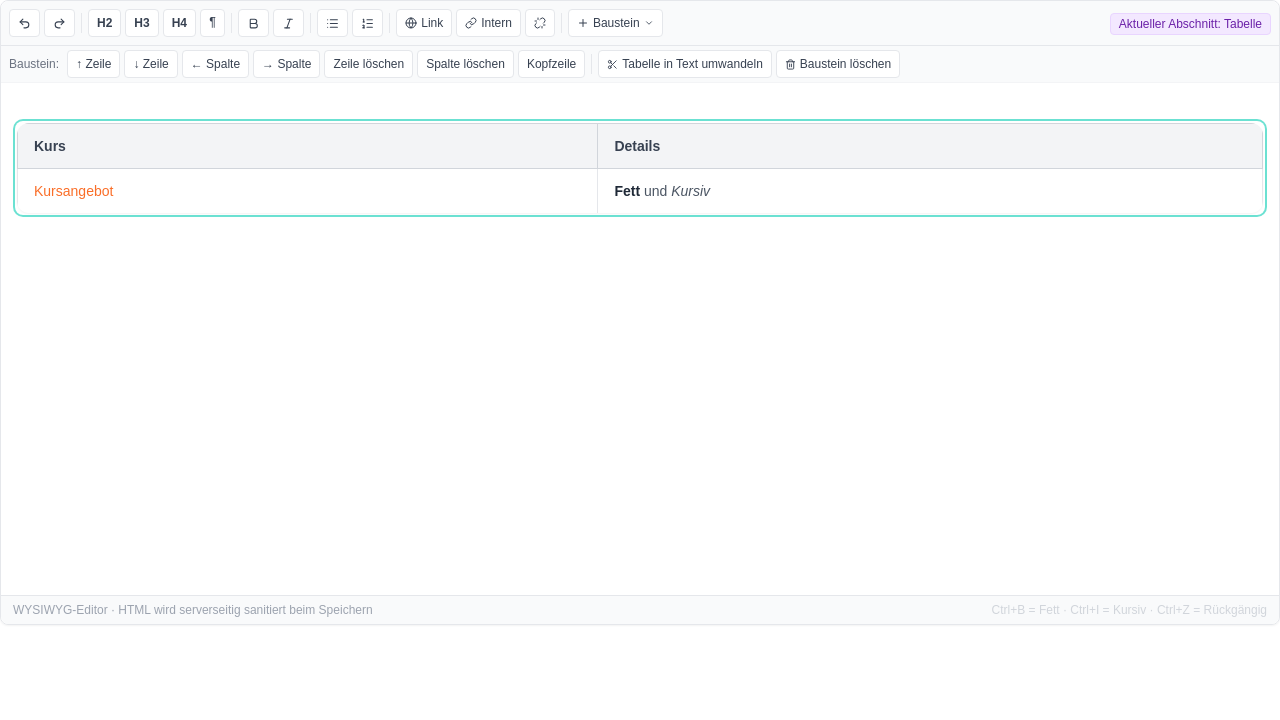
Test case: 3 – Tabelle → Text → Serialisierung → erneutes Parsen › erhält Texte, Links und Formatierungen
Press the mouse on the button with test id "btn-table-to-text" at (685, 64), box [598,50,772,78]
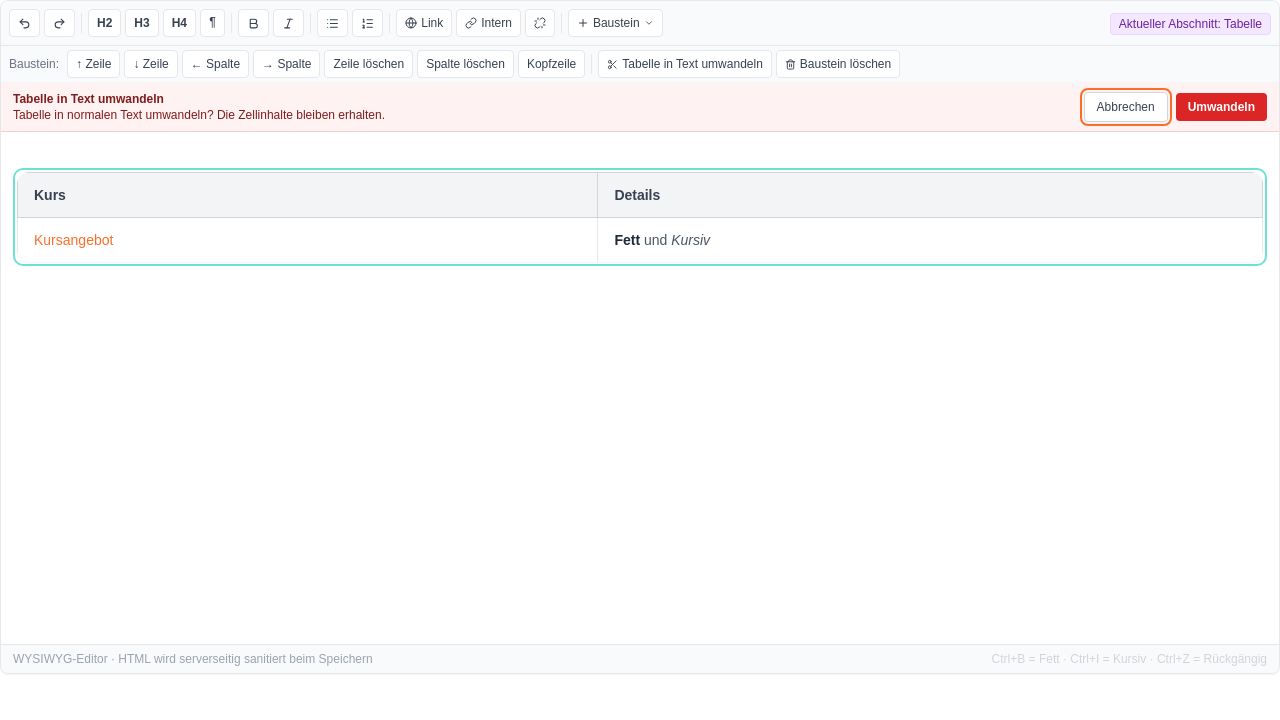
Click the button with test id "block-confirm-accept". click: (1221, 107)
box: [1176,93,1267,121]
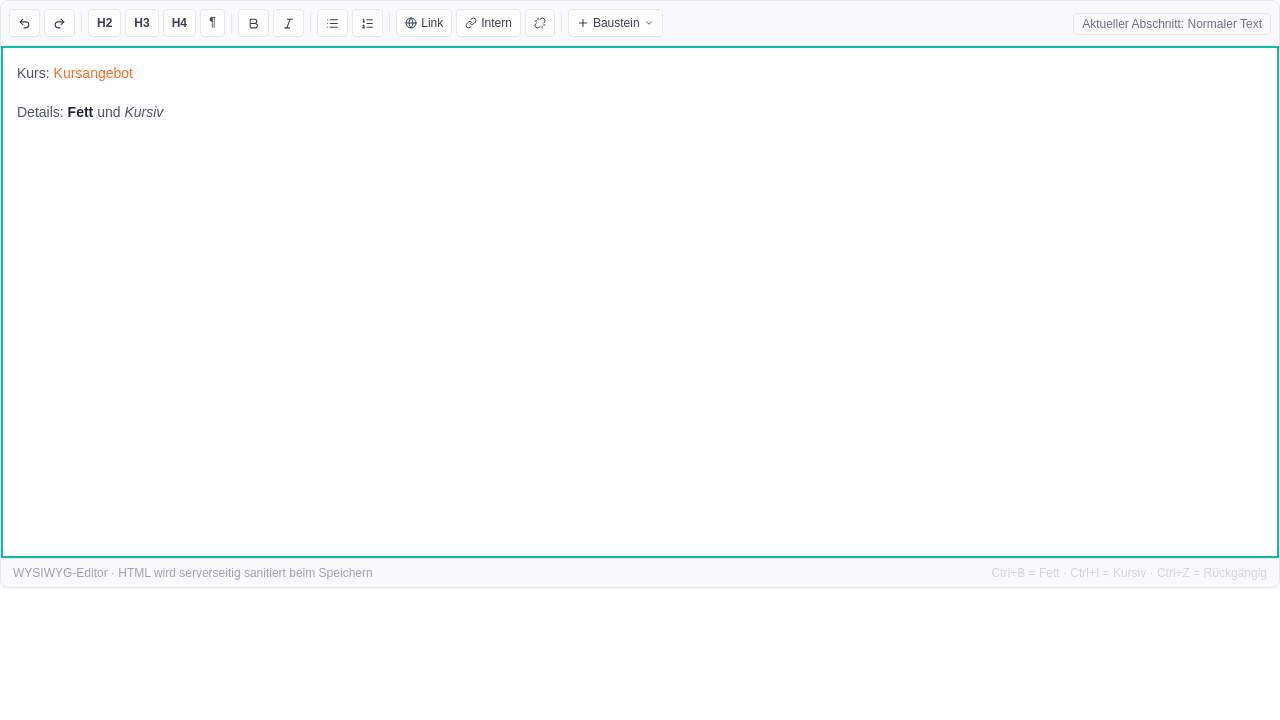
Expected: the table is gone
Expected: the row "Kurs Details" is gone
Expected: the column heading is gone
